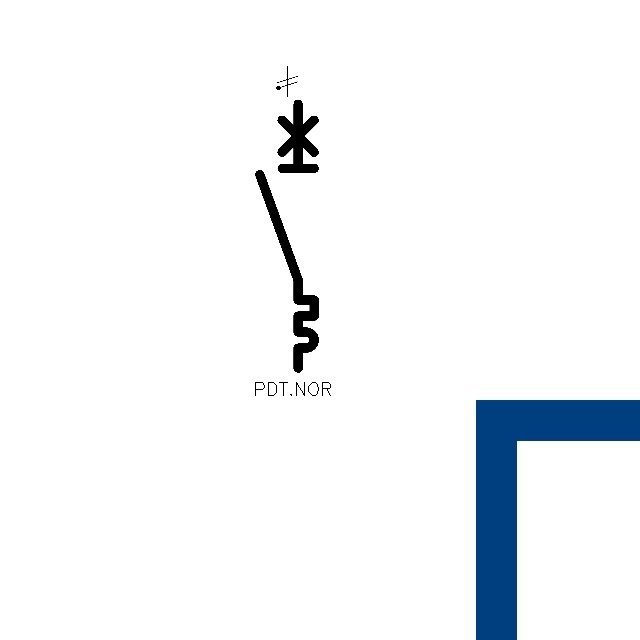interruptor_termomagnetico: (253, 97, 321, 375)
